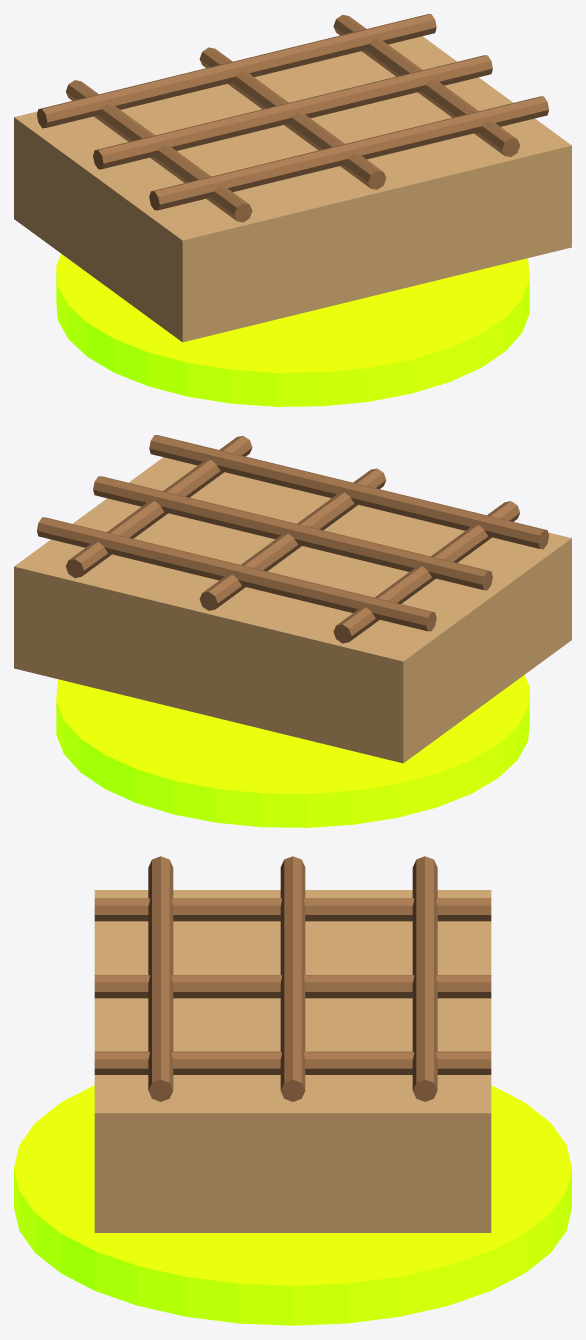
Rendered from food_waffle.glb.
The picture shows the model from 3 angles, top to bottom: view 1: azimuth 30°, elevation 25°; view 2: azimuth 150°, elevation 25°; view 3: azimuth 270°, elevation 25°; orthographic projection. The views are drawn at different scales.
Visible parts, largest first — view 1: 01_16_Popular_Food_Waffle_part_01, 01_16_Popular_Food_Waffle_ROOT_base, 01_16_Popular_Food_Waffle_part_06, 01_16_Popular_Food_Waffle_part_05, 01_16_Popular_Food_Waffle_part_07, 01_16_Popular_Food_Waffle_part_03, 01_16_Popular_Food_Waffle_part_02, 01_16_Popular_Food_Waffle_part_04; view 2: 01_16_Popular_Food_Waffle_part_01, 01_16_Popular_Food_Waffle_ROOT_base, 01_16_Popular_Food_Waffle_part_06, 01_16_Popular_Food_Waffle_part_07, 01_16_Popular_Food_Waffle_part_05, 01_16_Popular_Food_Waffle_part_03, 01_16_Popular_Food_Waffle_part_02, 01_16_Popular_Food_Waffle_part_04; view 3: 01_16_Popular_Food_Waffle_part_01, 01_16_Popular_Food_Waffle_ROOT_base, 01_16_Popular_Food_Waffle_part_03, 01_16_Popular_Food_Waffle_part_04, 01_16_Popular_Food_Waffle_part_02, 01_16_Popular_Food_Waffle_part_05, 01_16_Popular_Food_Waffle_part_07, 01_16_Popular_Food_Waffle_part_06.
Part boxes in pixels (left/top/right/bottom): 01_16_Popular_Food_Waffle_part_01: left=14, top=36, right=571, bottom=342; 01_16_Popular_Food_Waffle_ROOT_base: left=56, top=253, right=529, bottom=406; 01_16_Popular_Food_Waffle_part_06: left=93, top=55, right=492, bottom=169; 01_16_Popular_Food_Waffle_part_05: left=37, top=14, right=436, bottom=128; 01_16_Popular_Food_Waffle_part_07: left=149, top=96, right=548, bottom=210; 01_16_Popular_Food_Waffle_part_03: left=199, top=47, right=386, bottom=189; 01_16_Popular_Food_Waffle_part_02: left=66, top=80, right=252, bottom=222; 01_16_Popular_Food_Waffle_part_04: left=333, top=14, right=519, bottom=156; 01_16_Popular_Food_Waffle_part_01: left=14, top=457, right=571, bottom=763; 01_16_Popular_Food_Waffle_ROOT_base: left=56, top=674, right=529, bottom=827; 01_16_Popular_Food_Waffle_part_06: left=93, top=476, right=492, bottom=590; 01_16_Popular_Food_Waffle_part_07: left=149, top=435, right=548, bottom=549; 01_16_Popular_Food_Waffle_part_05: left=37, top=517, right=436, bottom=631; 01_16_Popular_Food_Waffle_part_03: left=199, top=468, right=386, bottom=610; 01_16_Popular_Food_Waffle_part_02: left=333, top=501, right=519, bottom=643; 01_16_Popular_Food_Waffle_part_04: left=66, top=435, right=252, bottom=577; 01_16_Popular_Food_Waffle_part_01: left=94, top=890, right=491, bottom=1232; 01_16_Popular_Food_Waffle_ROOT_base: left=14, top=1085, right=571, bottom=1325; 01_16_Popular_Food_Waffle_part_03: left=94, top=975, right=491, bottom=998; 01_16_Popular_Food_Waffle_part_04: left=94, top=1051, right=491, bottom=1074; 01_16_Popular_Food_Waffle_part_02: left=94, top=898, right=491, bottom=921; 01_16_Popular_Food_Waffle_part_05: left=412, top=856, right=437, bottom=1101; 01_16_Popular_Food_Waffle_part_07: left=148, top=856, right=173, bottom=1101; 01_16_Popular_Food_Waffle_part_06: left=280, top=856, right=305, bottom=1101.
Bounding box in the file's own units: 0.76 × 0.3606 × 0.76.
